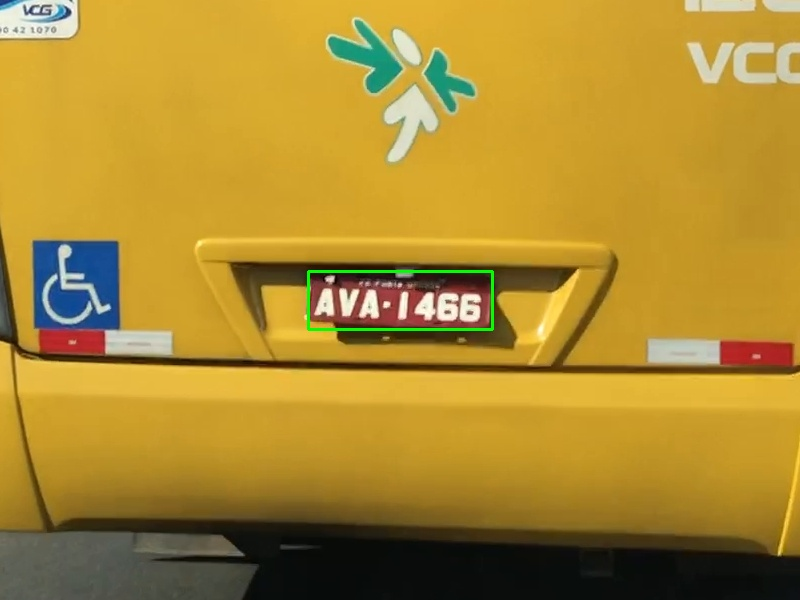placa: (308, 271, 492, 329)
